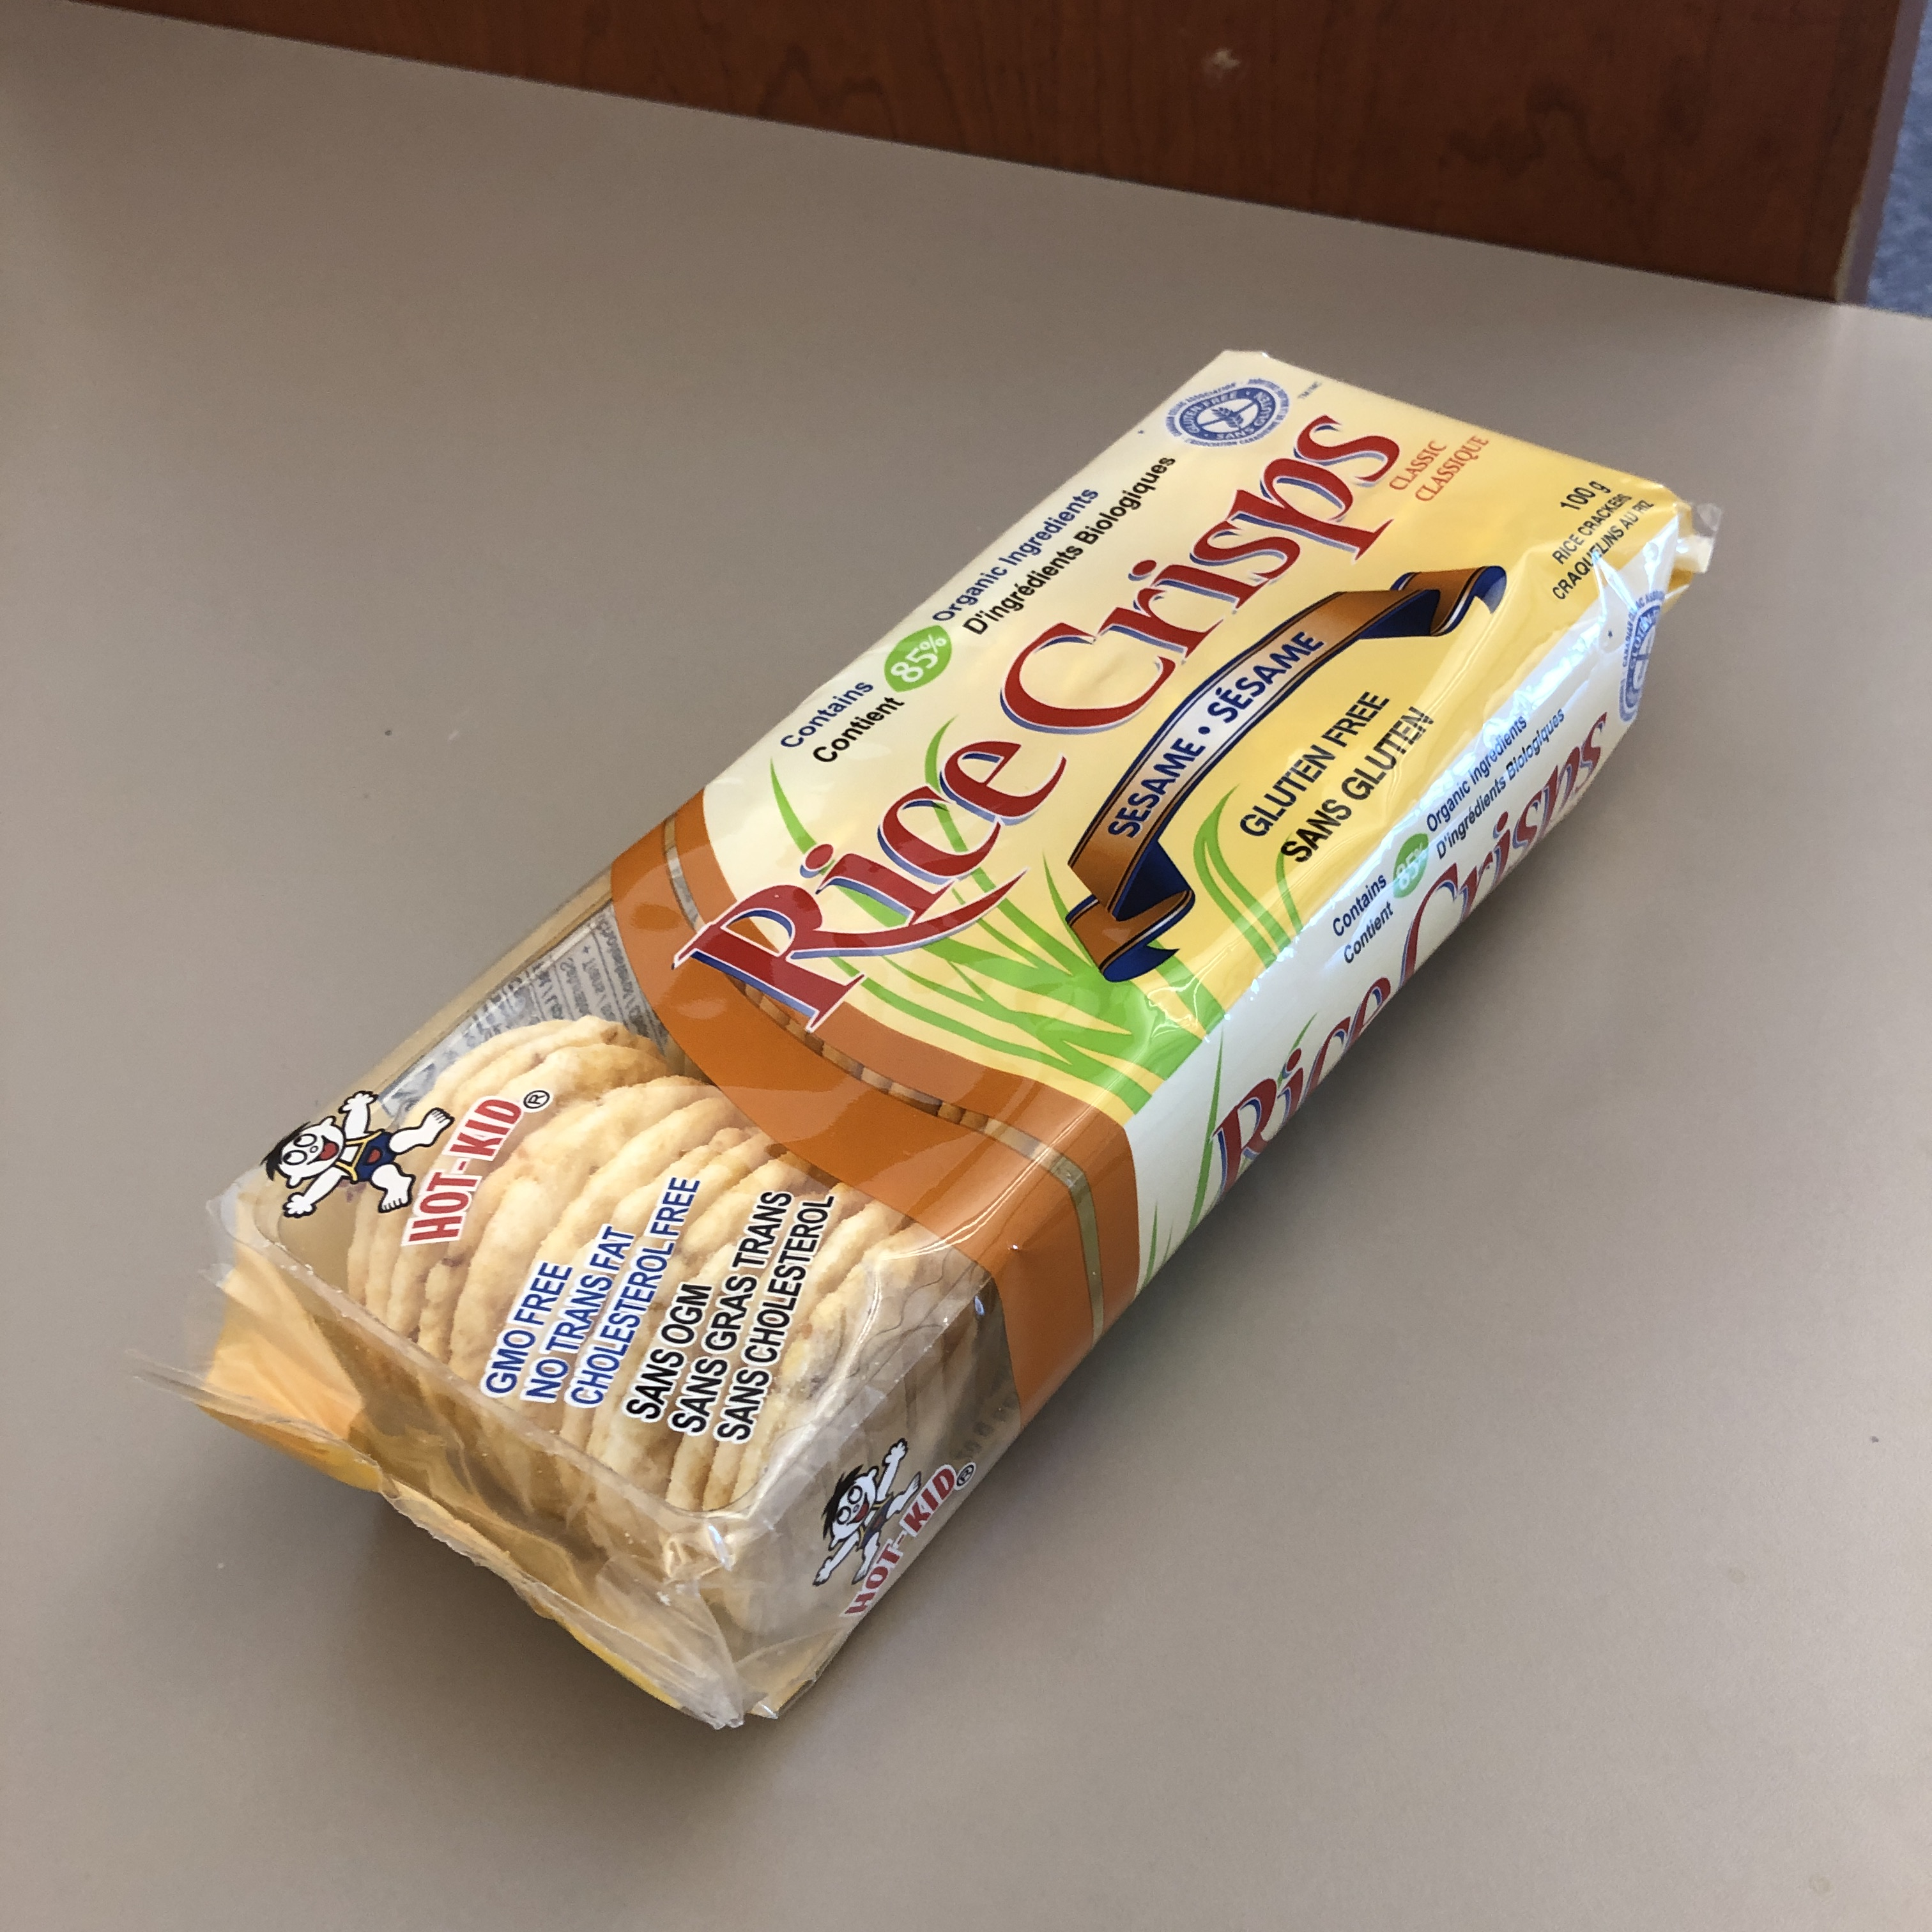hot_kid_rice_crisps_sesame: (372, 277, 1448, 1618)
